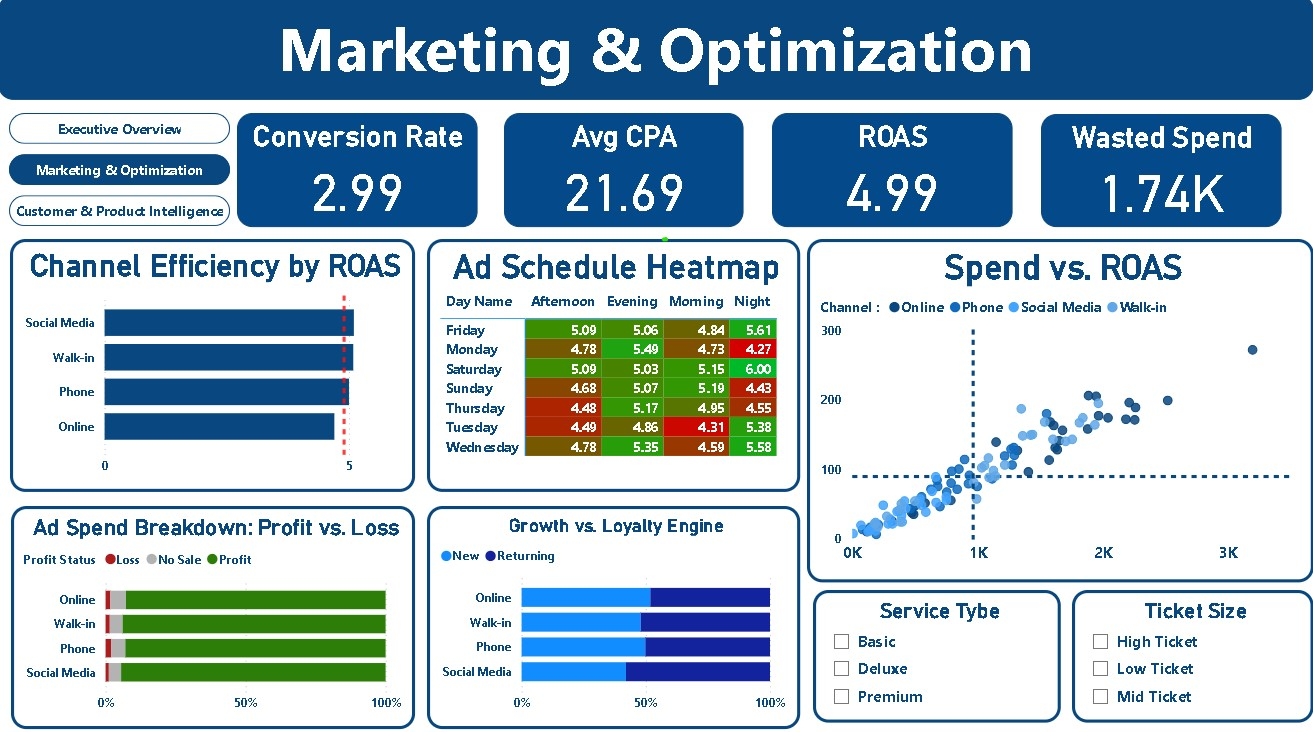

The dashboard page shown, as its layout file describes it:
{"tool":"powerbi","page":{"name":"Marketing & Optimization","canvas":[1280,720],"ordinal":1},"visuals":[{"type":"textbox","box":[0,0,1280,102.1],"z":0},{"type":"card","title":"Conversion Rate","fields":{"Values":["Data___Sheet1.Conv Rate"]},"box":[232.7,115,233.6,110.6],"z":1000},{"type":"card","title":"Avg CPA","fields":{"Values":["Avg(Data___Sheet1.CPA)"]},"box":[492.6,115,232.7,110.6],"z":2000},{"type":"card","title":"Wasted Spend","fields":{"Values":["Data___Sheet1.Wasted Spend"]},"box":[1014.1,115.9,233.6,109.8],"z":3000},{"type":"card","title":"ROAS","fields":{"Values":["Data___Sheet1.Overall_ROAS"]},"box":[752.5,115,233.6,110.6],"z":4000},{"type":"pageNavigator","box":[10.5,115,215.1,110.6],"z":5000},{"type":"pivotTable","title":"Ad Schedule Heatmap","fields":{"Rows":["Data___Sheet1.Day Name"],"Columns":["Data___Sheet1.Time of Day"],"Values":["Avg(Data___Sheet1.ROAS)"]},"box":[417.1,237.1,362.6,245.9],"z":6000},{"type":"scatterChart","title":"Spend vs. ROAS","fields":{"X":["Data___Sheet1.Ad-Spend"],"Y":["Sum(Data___Sheet1.ROAS)"],"Category":["Data___Sheet1.Golden Slot"],"Series":["Data___Sheet1.Channel"]},"box":[786.7,237.1,493.5,333.7],"z":7000},{"type":"clusteredBarChart","title":"Channel Efficiency by ROAS","fields":{"Category":["Data___Sheet1.Channel"],"Y":["Avg(Data___Sheet1.ROAS)"]},"box":[11.4,237.1,394.2,245.9],"z":8000},{"type":"hundredPercentStackedBarChart","title":"Ad Spend Breakdown: Profit vs. Loss","fields":{"Y":["Sum(Data___Sheet1.Ad Spend)"],"Category":["Data___Sheet1.Channel"],"Series":["Data___Sheet1.Profit Status"]},"box":[12.3,497,393.4,216.9],"z":9000},{"type":"hundredPercentStackedBarChart","title":"Growth vs. Loyalty Engine","fields":{"Y":["Sum(Data___Sheet1.RRevenue)"],"Category":["Data___Sheet1.Channel"],"Series":["Data___Sheet1.Customer Type"]},"box":[417.1,497,362.6,216.9],"z":10000},{"type":"slicer","title":"Service Tybe","fields":{"Values":["Data___Sheet1.Service Type"]},"box":[792.9,578.6,240.6,129.1],"z":12000},{"type":"slicer","title":"Ticket Size ","fields":{"Values":["Data___Sheet1.Ticket Size"]},"box":[1044.9,578.6,235.3,129.1],"z":13000}]}

Visuals, with their boxes in screenshot pixels (x1, y1, x2, y2), scaled from the page's 1280x720 canvas onto the 1313x732 screenshot:
textbox: 0 0 1312 104
"Conversion Rate" card: 239 117 478 229
"Avg CPA" card: 505 117 744 229
"Wasted Spend" card: 1040 118 1280 229
"ROAS" card: 772 117 1012 229
pageNavigator: 11 117 231 229
"Ad Schedule Heatmap" pivotTable: 428 241 800 491
"Spend vs. ROAS" scatterChart: 807 241 1312 580
"Channel Efficiency by ROAS" clusteredBarChart: 12 241 416 491
"Ad Spend Breakdown: Profit vs. Loss" hundredPercentStackedBarChart: 13 505 416 726
"Growth vs. Loyalty Engine" hundredPercentStackedBarChart: 428 505 800 726
"Service Tybe" slicer: 813 588 1060 719
"Ticket Size " slicer: 1072 588 1312 719
